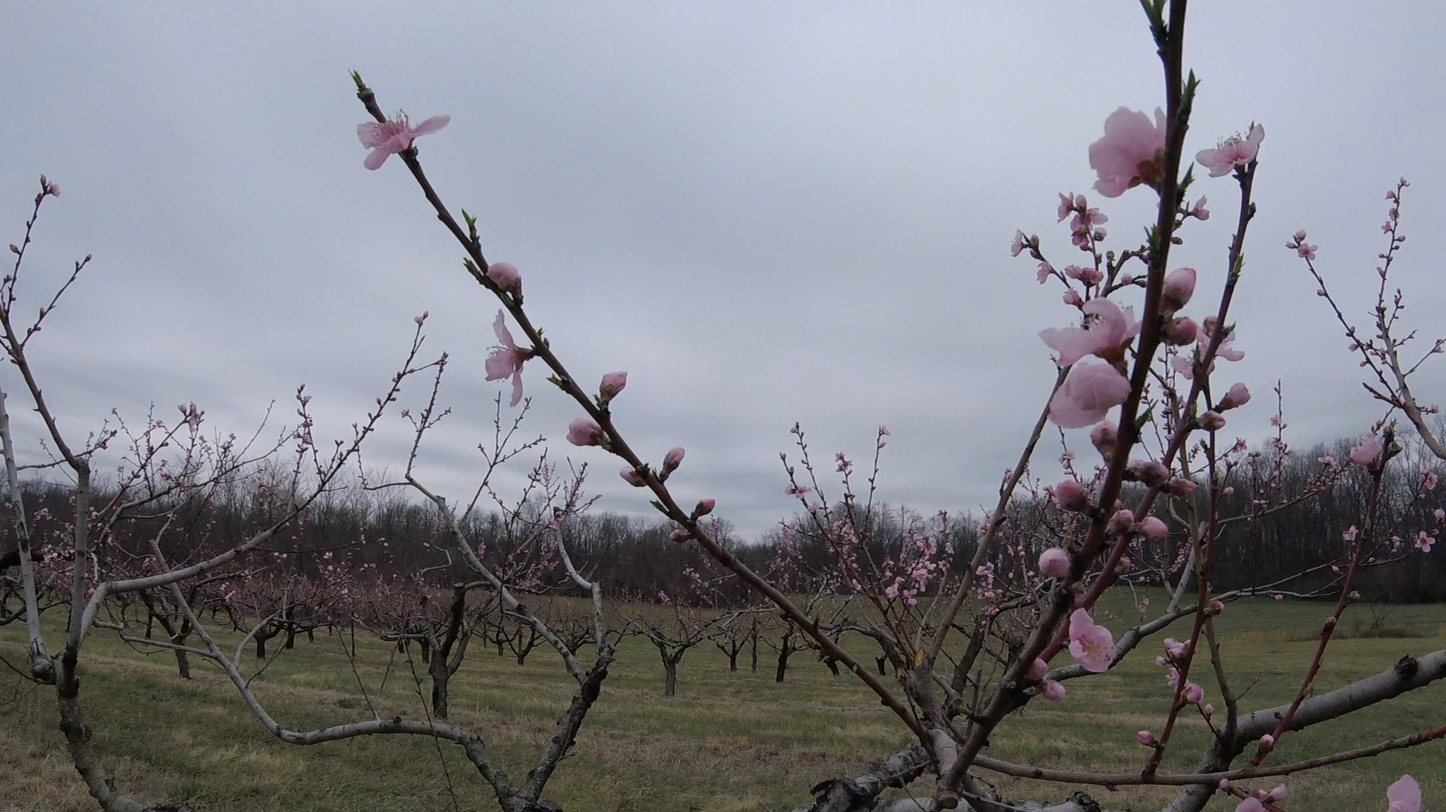flower: (1038, 261, 1142, 429), (1089, 107, 1168, 198), (357, 114, 451, 171), (1069, 608, 1136, 673), (1197, 121, 1265, 178), (485, 309, 524, 408), (1038, 547, 1075, 593), (1170, 317, 1211, 358), (1044, 478, 1093, 512), (1161, 267, 1197, 309), (1073, 195, 1109, 235), (1348, 431, 1386, 467), (1287, 219, 1319, 261), (567, 417, 611, 447), (1387, 775, 1422, 812), (486, 263, 521, 289), (1137, 513, 1169, 539), (600, 372, 628, 399), (1168, 353, 1195, 380), (1216, 339, 1245, 362), (1423, 461, 1446, 490), (1225, 383, 1251, 406), (1165, 639, 1192, 661), (1058, 192, 1075, 224), (1011, 229, 1030, 257), (1026, 658, 1048, 681), (1191, 195, 1210, 221), (1235, 798, 1270, 812), (664, 448, 685, 471), (1185, 679, 1205, 703), (1415, 531, 1436, 553), (1045, 680, 1066, 701), (1258, 784, 1286, 799), (1038, 260, 1054, 285), (1071, 213, 1087, 236), (1166, 667, 1180, 692), (1342, 526, 1358, 542), (1157, 657, 1167, 666), (1055, 583, 1066, 590), (410, 147, 417, 154), (397, 113, 402, 119)
